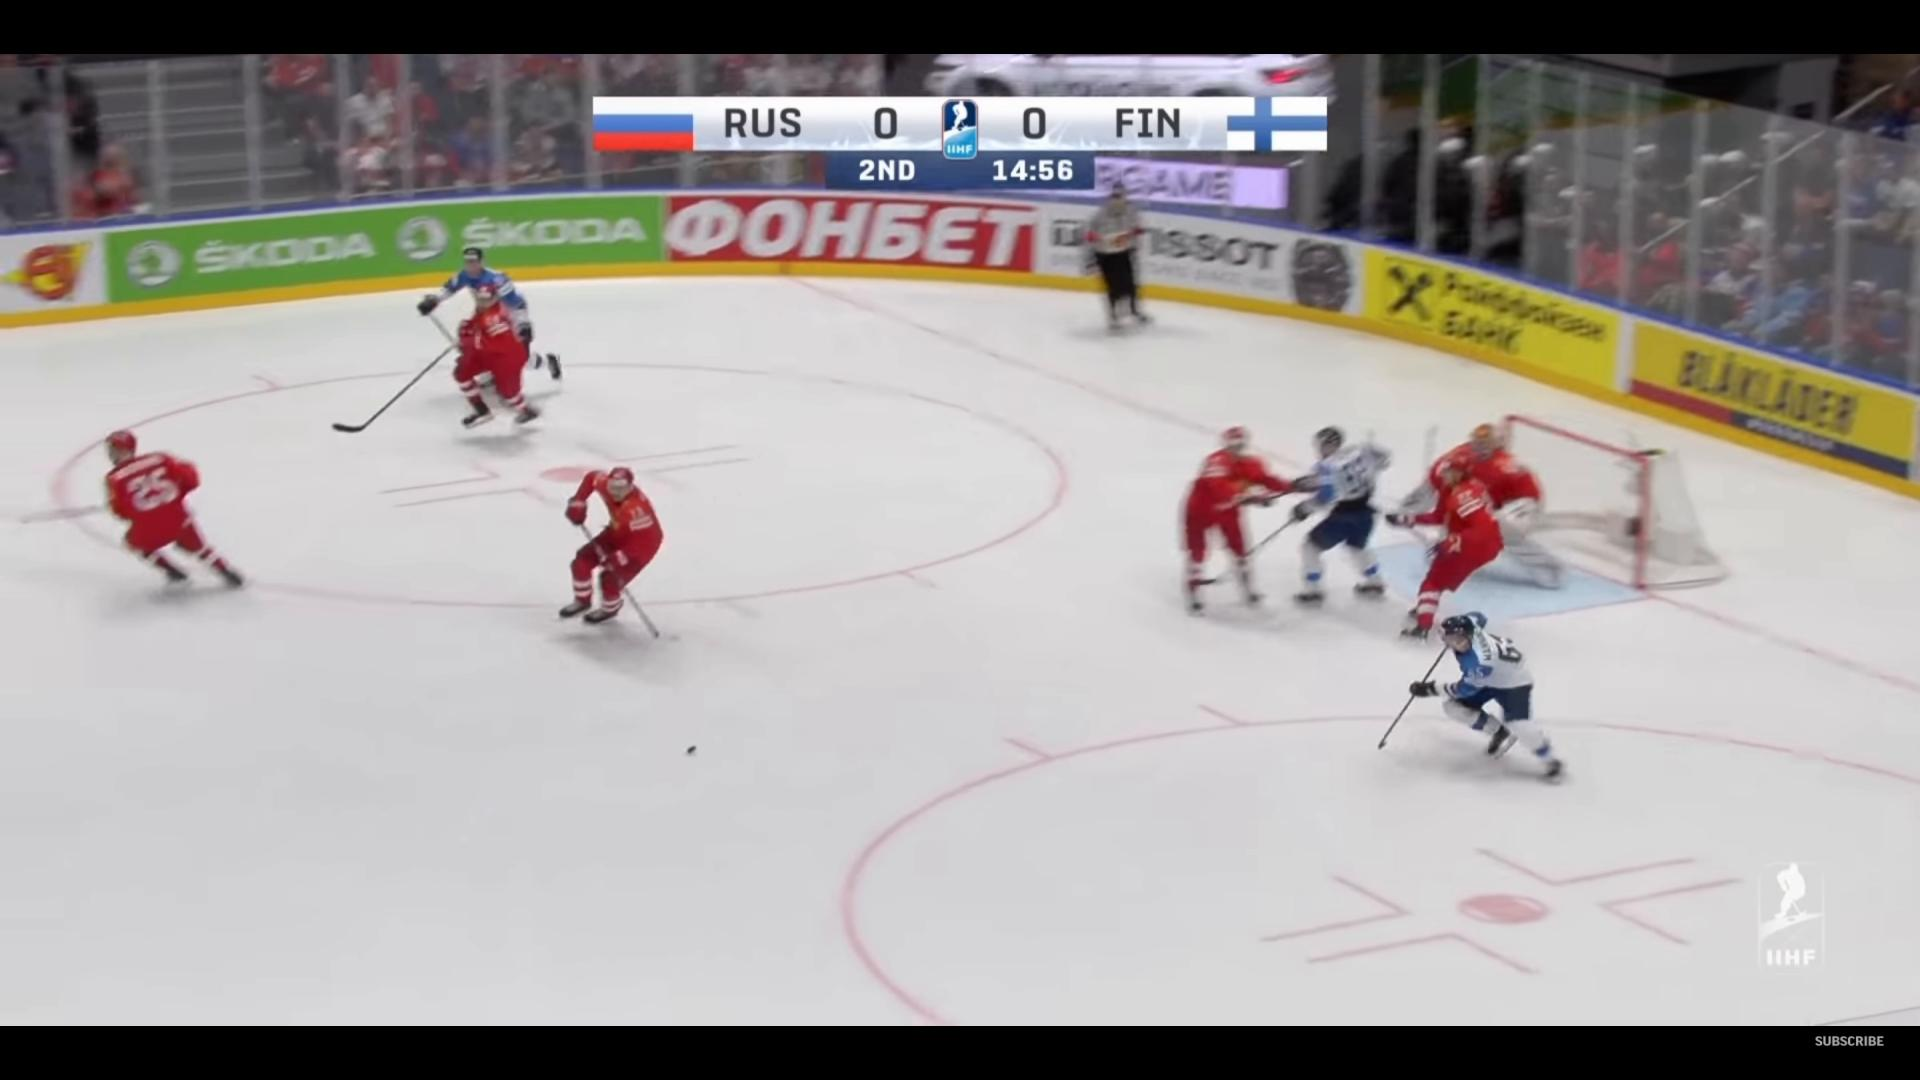puck: (685, 745, 696, 753)
